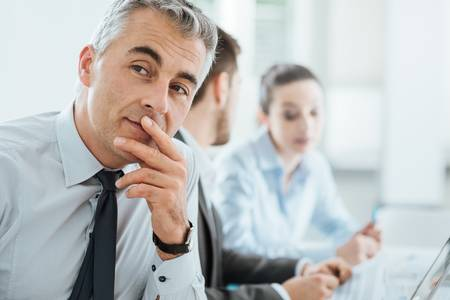F_shirt: (2, 99, 205, 300)
F_tie: (80, 170, 122, 300)
